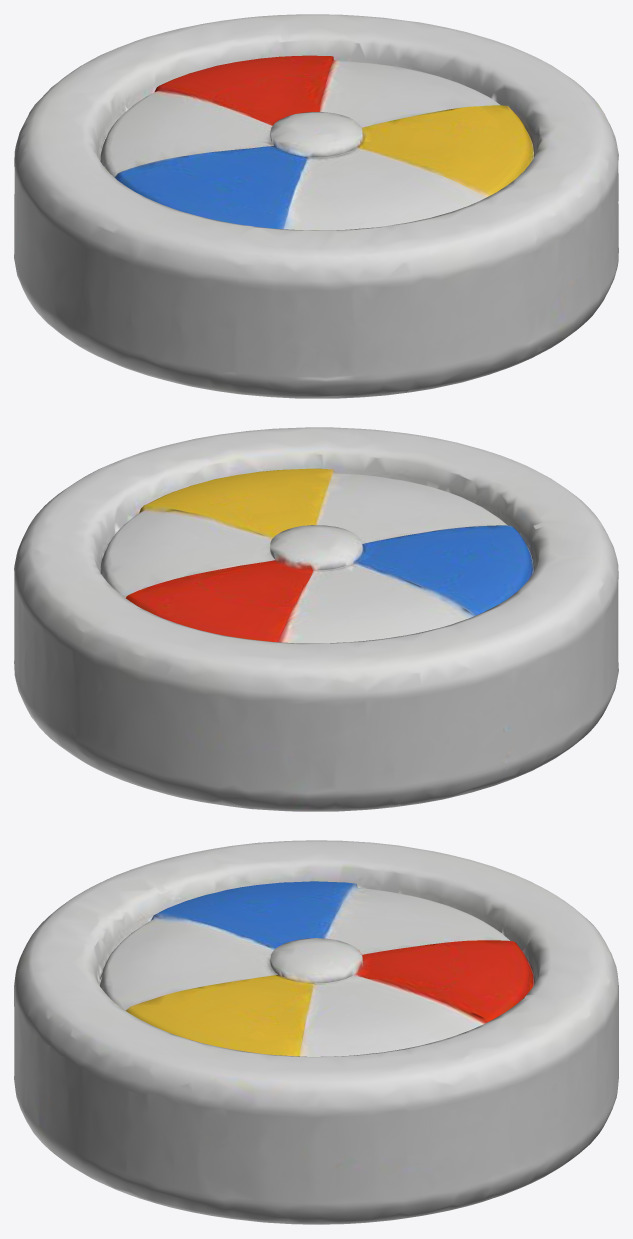
Rendered from puck-beachball.glb.
3 views of the same model, one above another, from view 1: azimuth 30°, elevation 25°; view 2: azimuth 150°, elevation 25°; view 3: azimuth 270°, elevation 25° (orthographic).
Visible parts, largest first — view 1: tripo_node_f73ba545-6bad-4eae-8129-d008f261e8e1; view 2: tripo_node_f73ba545-6bad-4eae-8129-d008f261e8e1; view 3: tripo_node_f73ba545-6bad-4eae-8129-d008f261e8e1.
Boxes of the visible parts, x1,y1,x2,y2 form: tripo_node_f73ba545-6bad-4eae-8129-d008f261e8e1: (14, 14, 618, 398); tripo_node_f73ba545-6bad-4eae-8129-d008f261e8e1: (14, 427, 618, 811); tripo_node_f73ba545-6bad-4eae-8129-d008f261e8e1: (14, 840, 618, 1224).
Bounding box in the file's own units: 0.9994 × 0.2953 × 1.
1 material, 1 textured.
